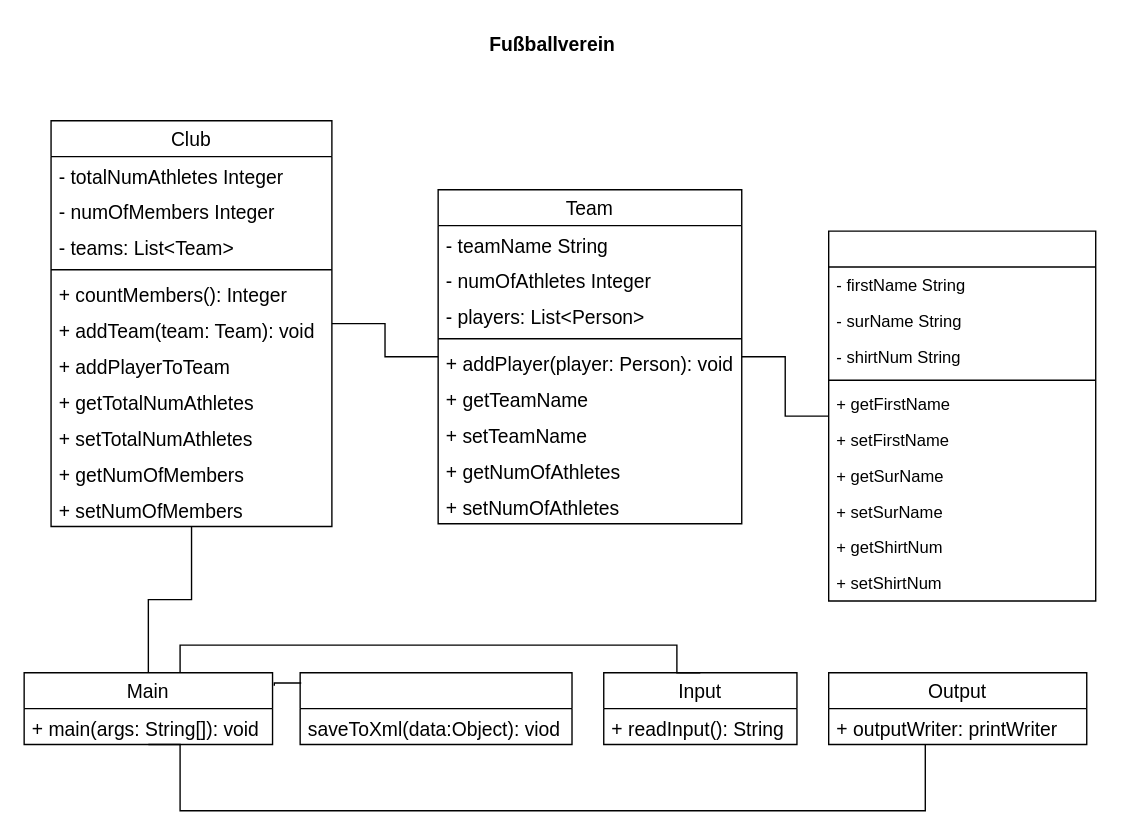
The diagram is 1121 pixels wide and 836 high, and some of its shapes have lost their labels. The box of each missing label's shape, as (x1, y1, x2, y2) in pixels:
Person: (827, 230, 1096, 601)
StoreData: (299, 671, 572, 745)
